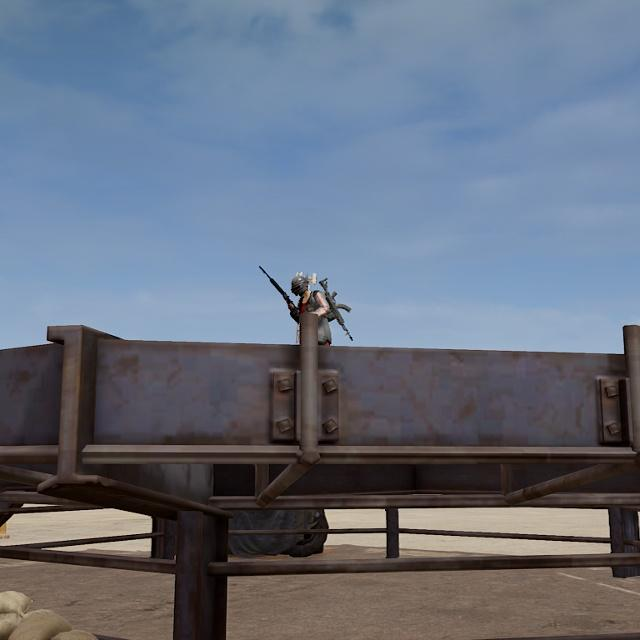head: (287, 272, 314, 300)
people: (285, 268, 336, 346)
